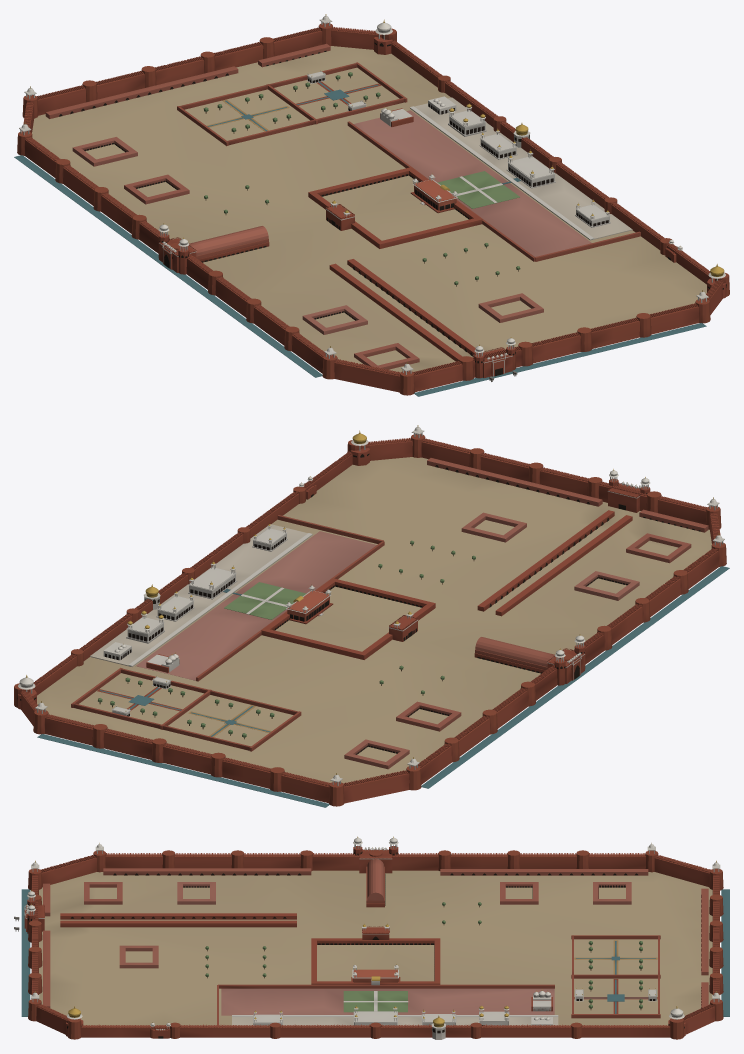
The model's file is red-fort.glb.
3 views of the same model, one above another, from view 1: azimuth 30°, elevation 25°; view 2: azimuth 150°, elevation 25°; view 3: azimuth 270°, elevation 25° (orthographic). The views are drawn at different scales.
Visible parts, largest first — view 1: p0_walls, p2_palaces, p1_gates; view 2: p0_walls, p2_palaces, p1_gates; view 3: p0_walls, p2_palaces, p1_gates.
Boxes of the visible parts, <box> form: p0_walls: <box>14,14,729,396</box>; p2_palaces: <box>72,70,632,369</box>; p1_gates: <box>158,62,682,381</box>; p0_walls: <box>14,425,729,807</box>; p2_palaces: <box>90,512,691,769</box>; p1_gates: <box>71,469,650,751</box>; p0_walls: <box>21,843,729,1039</box>; p2_palaces: <box>84,882,657,1039</box>; p1_gates: <box>14,836,660,1038</box>.
Bounding box in the file's own units: 581 × 49.61 × 999.
